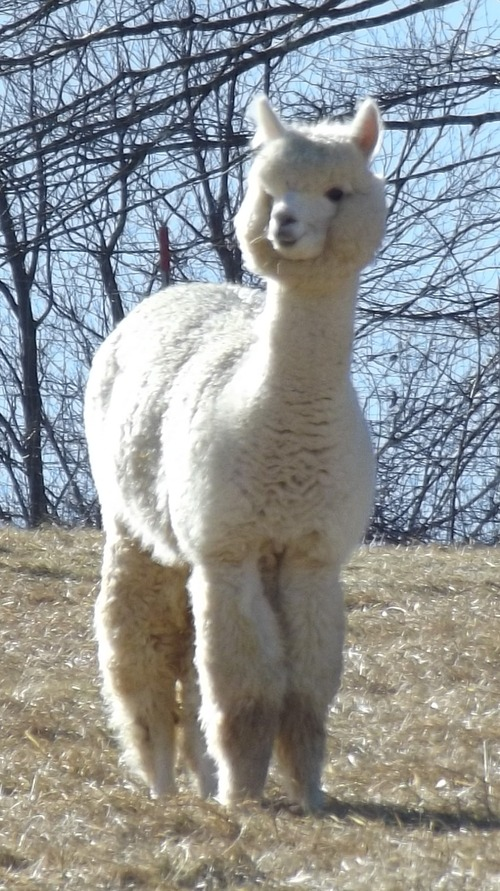alpaca: (84, 92, 391, 809)
